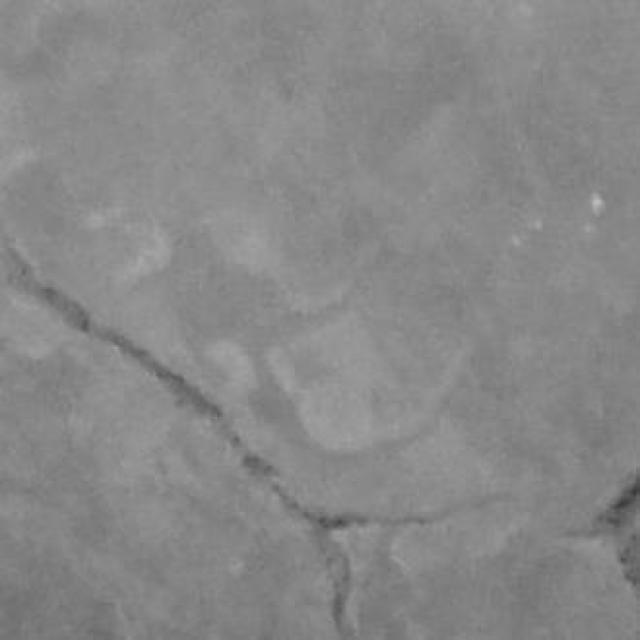crack: (2, 239, 469, 639), (2, 241, 374, 639), (595, 471, 638, 601)
